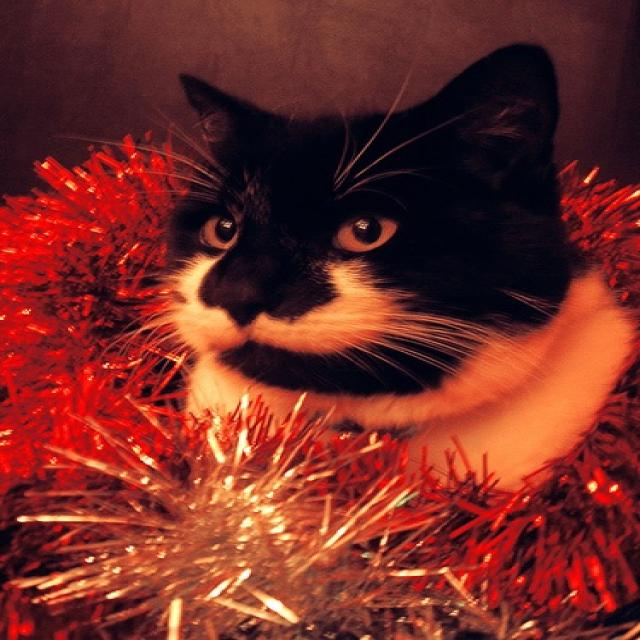cat: (155, 44, 633, 494)
